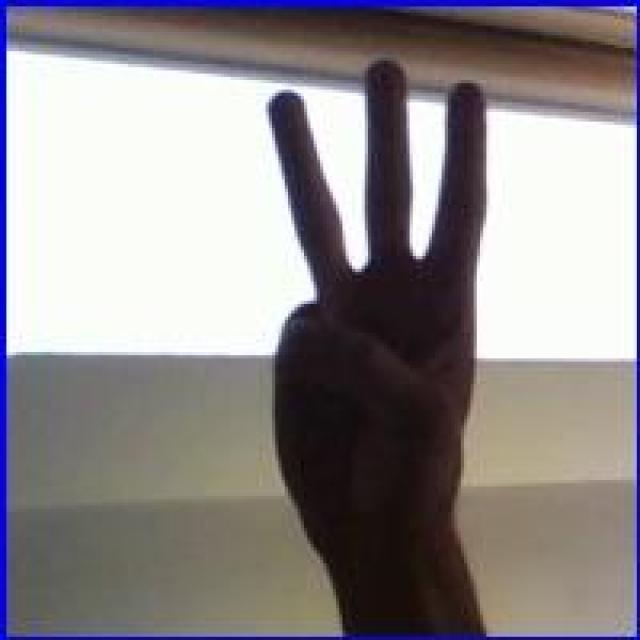W: (258, 53, 494, 542)
